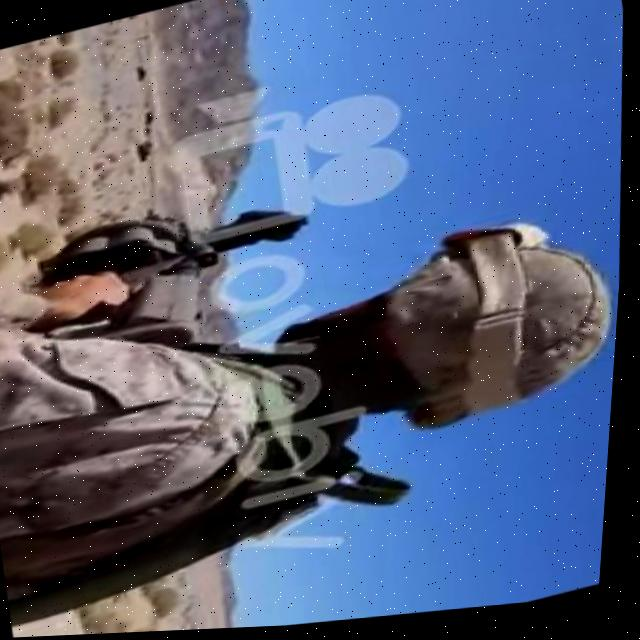rocket: (25, 174, 340, 378)
